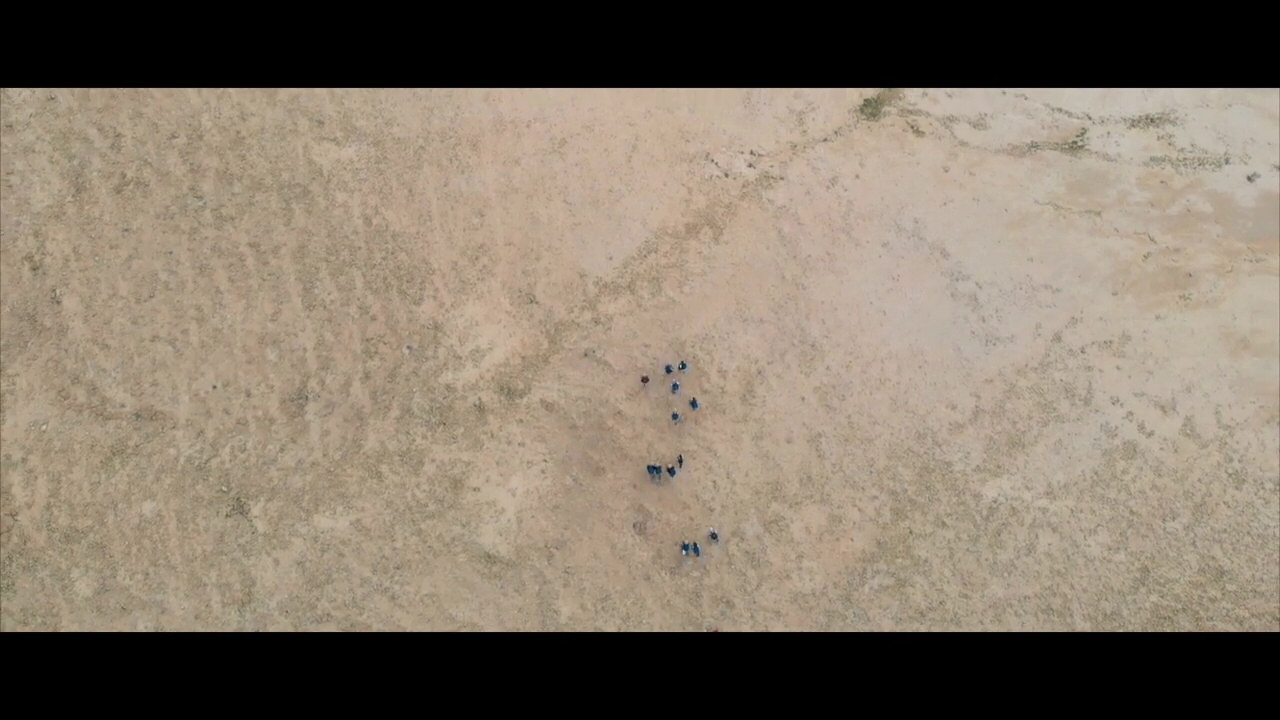insan: (705, 526, 719, 544), (645, 457, 657, 478), (670, 377, 682, 395), (665, 463, 678, 479), (680, 537, 690, 557), (691, 539, 701, 556), (639, 373, 651, 387), (676, 453, 686, 469), (654, 462, 664, 478), (689, 397, 700, 409), (671, 408, 680, 422), (665, 362, 674, 374), (678, 358, 686, 371)
